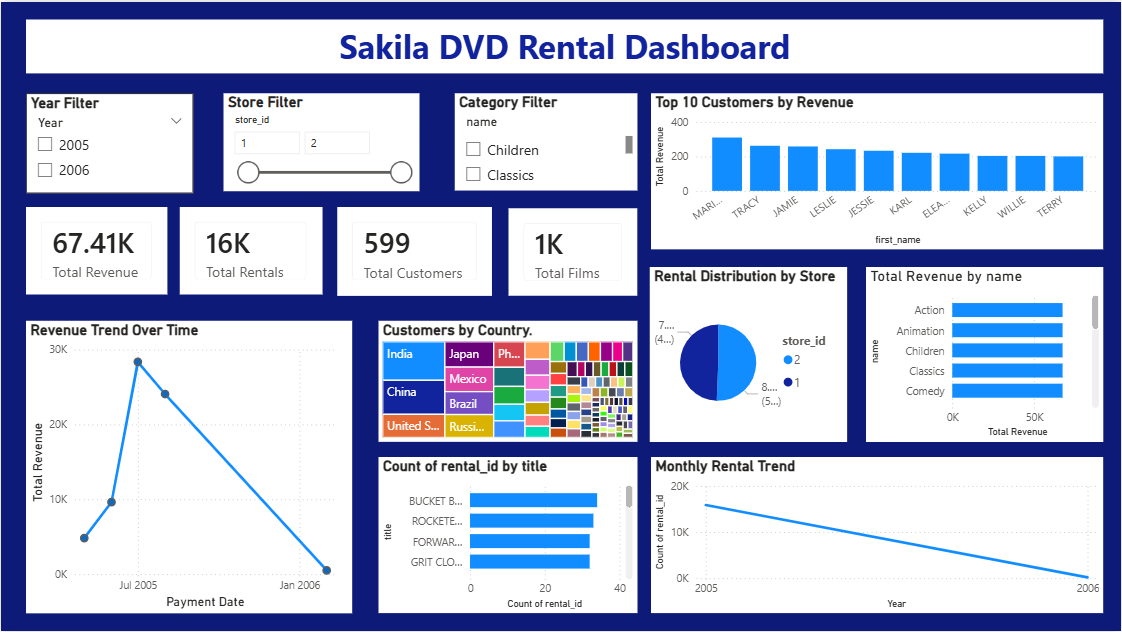

Layout of this report page (visuals, bound fields, positions):
{"tool":"powerbi","page":{"name":"Page 1","canvas":[1280,720],"ordinal":0},"visuals":[{"type":"cardVisual","fields":{"Data":["payment.Total Revenue"]},"box":[28.6,234.3,161.4,100],"z":0},{"type":"cardVisual","fields":{"Data":["rentat.Total Rentals"]},"box":[204.3,234.3,162.9,100],"z":1000},{"type":"cardVisual","fields":{"Data":["customer.Total Customers"]},"box":[384.3,234.3,177.1,101.4],"z":2000},{"type":"cardVisual","fields":{"Data":["film.Total Films"]},"box":[580,235.7,147.1,100],"z":3000},{"type":"lineChart","title":"Revenue Trend Over Time","fields":{"Y":["payment.Total Revenue"],"Category":["payment.payment_date.Variation.Date Hierarchy.Year","payment.payment_date.Variation.Date Hierarchy.Month"]},"box":[28.6,364.3,372.9,334.3],"z":4000},{"type":"clusteredColumnChart","title":"Top 10 Customers by Revenue","fields":{"Y":["payment.Total Revenue"],"Category":["customer.first_name"]},"box":[742.9,104.3,517.1,178.6],"z":5000},{"type":"pieChart","title":"Rental Distribution by Store","fields":{"Category":["inventory.store_id"],"Y":["CountNonNull(rentat.rental_id)"]},"box":[741.4,302.9,225.7,200],"z":7000},{"type":"clusteredBarChart","fields":{"Category":["film.title"],"Y":["CountNonNull(rentat.rental_id)"]},"box":[431.4,520,295.7,178.6],"z":8000},{"type":"treemap","title":"Customers by Country.","fields":{"Group":["country.country"],"Values":["CountNonNull(customer.customer_id)"]},"box":[431.4,364.3,295.7,138.6],"z":9000},{"type":"lineChart","title":"Monthly Rental Trend","fields":{"Category":["rentat.rental_date.Variation.Date Hierarchy.Year","rentat.rental_date.Variation.Date Hierarchy.Month"],"Y":["CountNonNull(rentat.rental_id)"]},"box":[742.9,520,517.1,178.6],"z":10000},{"type":"slicer","title":"Year Filter","fields":{"Values":["payment.payment_date.Variation.Date Hierarchy.Year"]},"box":[28.6,104.3,191.4,114.3],"z":11000},{"type":"slicer","title":"Store Filter","fields":{"Values":["store.store_id"]},"box":[254.3,104.3,224.3,111.4],"z":12000},{"type":"slicer","title":"Category Filter","fields":{"Values":["category.name"]},"box":[518.6,104.3,208.6,111.4],"z":13000},{"type":"textbox","box":[28.6,20,1231.4,61.4],"z":14000},{"type":"clusteredBarChart","fields":{"Category":["category.name"],"Y":["payment.Total Revenue"]},"box":[988.6,302.9,271.4,200],"z":14001}]}

Visuals, with their boxes in screenshot pixels (x1, y1, x2, y2), scaled from the page's 1280x720 canvas onto the 1122x632 screenshot:
cardVisual - payment.Total Revenue: BBox(25, 206, 167, 293)
cardVisual - rentat.Total Rentals: BBox(179, 206, 322, 293)
cardVisual - customer.Total Customers: BBox(337, 206, 492, 295)
cardVisual - film.Total Films: BBox(508, 207, 637, 295)
"Revenue Trend Over Time" lineChart: BBox(25, 320, 352, 613)
"Top 10 Customers by Revenue" clusteredColumnChart: BBox(651, 92, 1104, 248)
"Rental Distribution by Store" pieChart: BBox(650, 266, 848, 441)
clusteredBarChart - film.title x CountNonNull(rentat.rental_id): BBox(378, 456, 637, 613)
"Customers by Country." treemap: BBox(378, 320, 637, 441)
"Monthly Rental Trend" lineChart: BBox(651, 456, 1104, 613)
"Year Filter" slicer: BBox(25, 92, 193, 192)
"Store Filter" slicer: BBox(223, 92, 420, 189)
"Category Filter" slicer: BBox(455, 92, 637, 189)
textbox: BBox(25, 18, 1104, 71)
clusteredBarChart - category.name x payment.Total Revenue: BBox(867, 266, 1104, 441)
